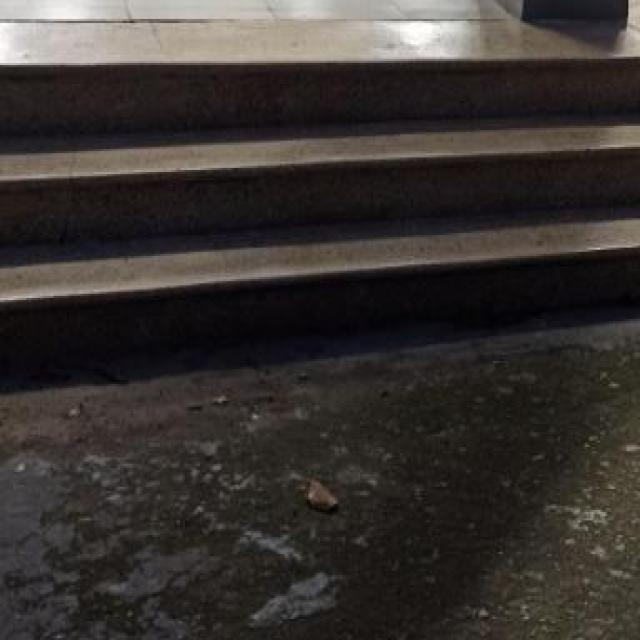Stairs: (0, 41, 638, 390)
